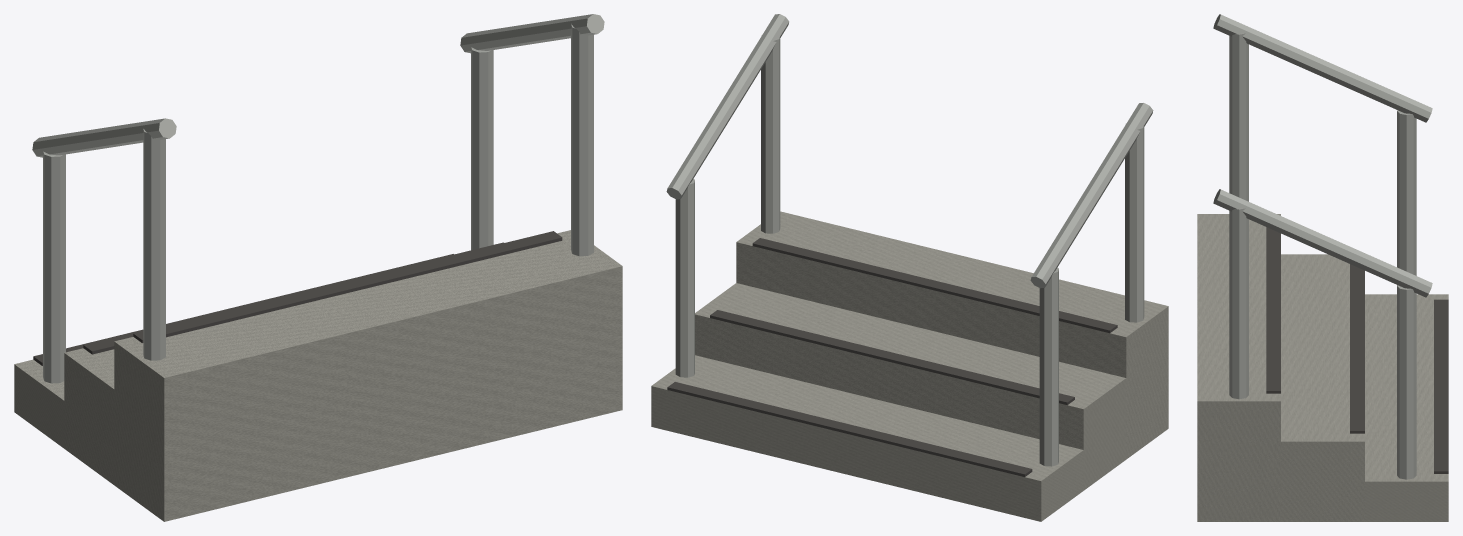
Rendered from signal-house-relay-entrance-steps__194.glb.
The picture shows the model from 3 angles, left to right: view 1: azimuth 30°, elevation 25°; view 2: azimuth 150°, elevation 25°; view 3: azimuth 270°, elevation 25°; orthographic projection. The views are drawn at different scales.
Visible parts, largest first — view 1: stone, metal, dark; view 2: stone, metal, dark; view 3: stone, metal, dark.
Part boxes in pixels (<box>): stone: <box>14,230,622,521</box>; metal: <box>32,14,604,383</box>; dark: <box>33,231,562,365</box>; stone: <box>651,211,1168,521</box>; metal: <box>666,14,1153,466</box>; dark: <box>667,238,1117,476</box>; stone: <box>1197,214,1448,521</box>; metal: <box>1213,14,1432,479</box>; dark: <box>1266,227,1448,473</box>.
Size of the model in its own units: 1.8 by 1.46 by 1.02.
3 materials, 1 textured.
